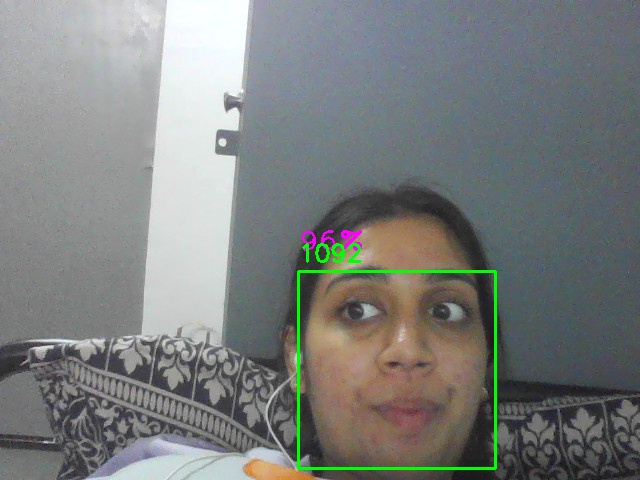real: (298, 271, 496, 469)
